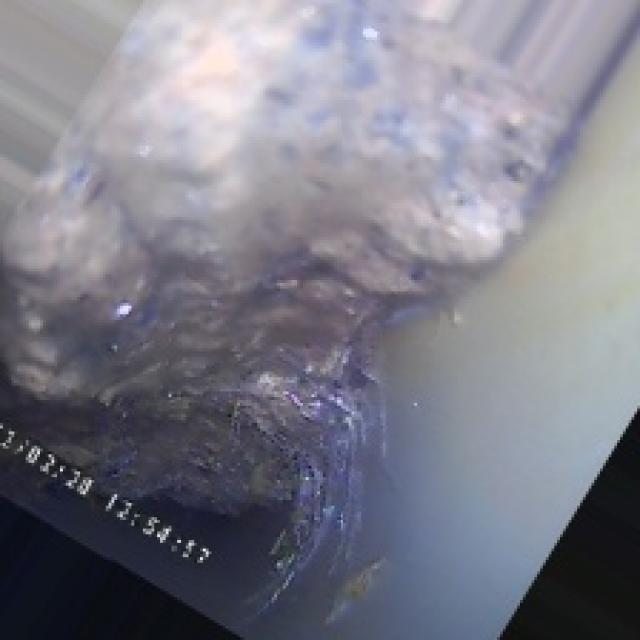sluge accumulation: (89, 57, 488, 520)
